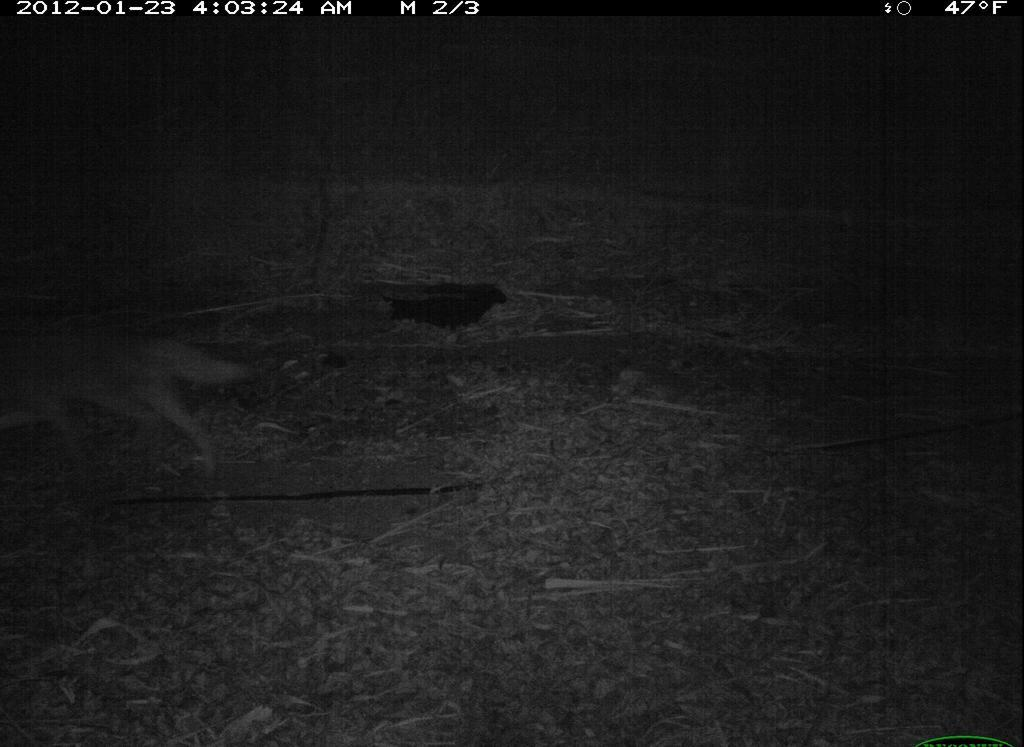coyote: (1, 297, 264, 506)
